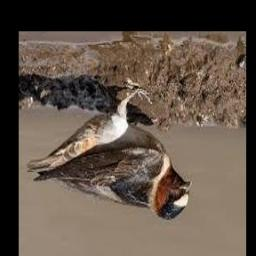Swallow: (28, 90, 192, 220)
